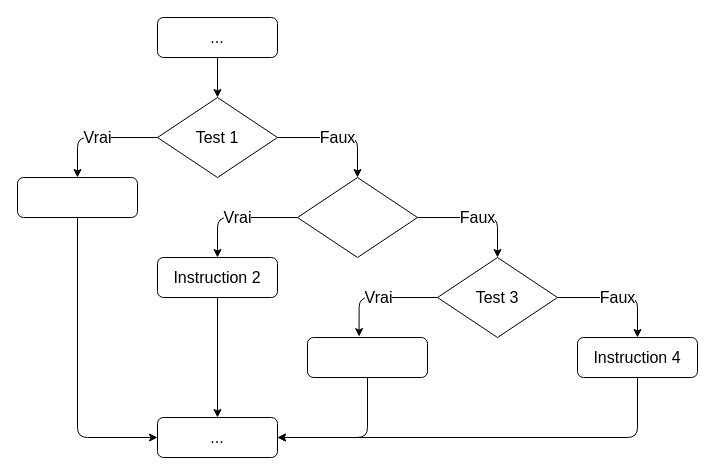
Image size: 715x475. Some labels were removed from this diagram. The centre of each missing label's shape, as x and y in pixels:
"Instruction 1" goes at (x=77, y=197).
"Instruction 3" goes at (x=367, y=357).
"Test 2" goes at (x=357, y=217).
